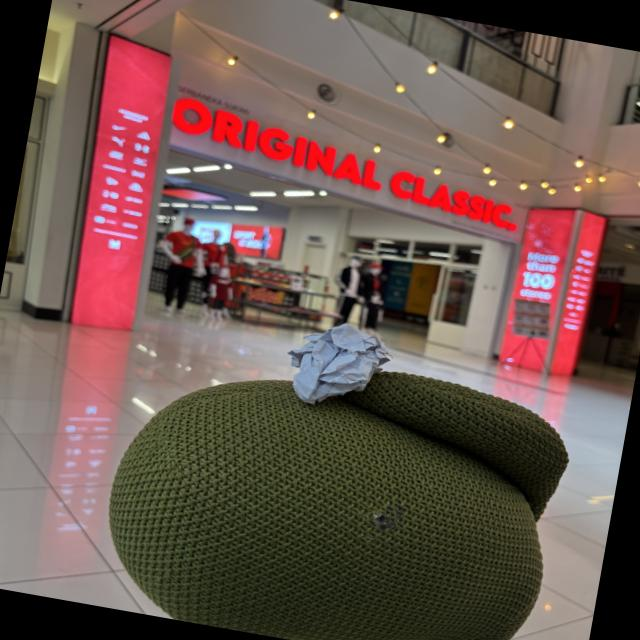crumpled_paper: (278, 309, 397, 419)
